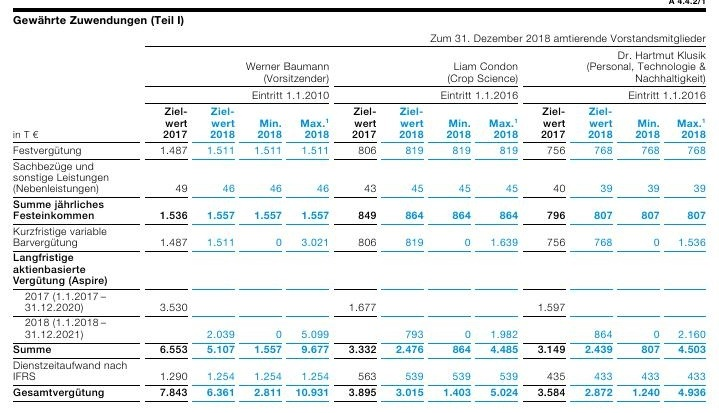table: (0, 0, 719, 413)
